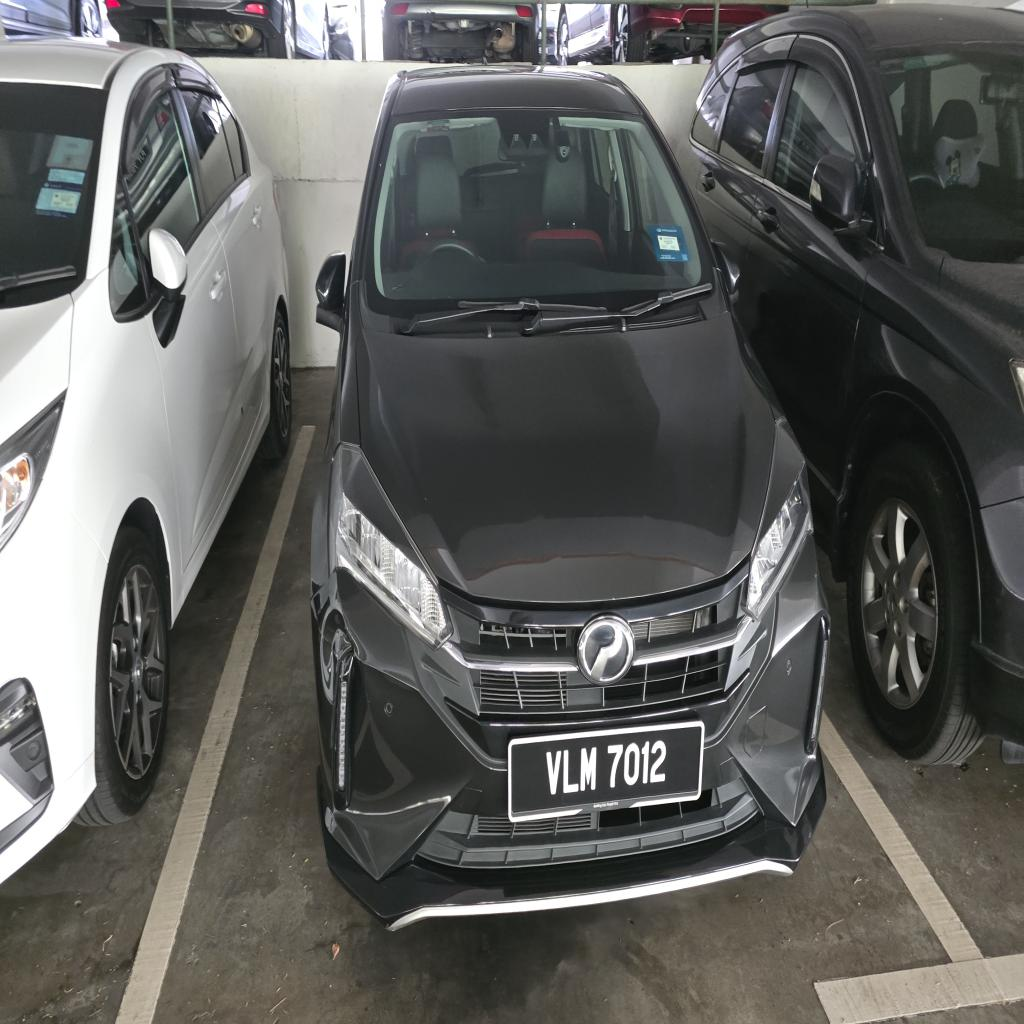car: (312, 69, 828, 928)
car plate: (509, 721, 703, 820)
